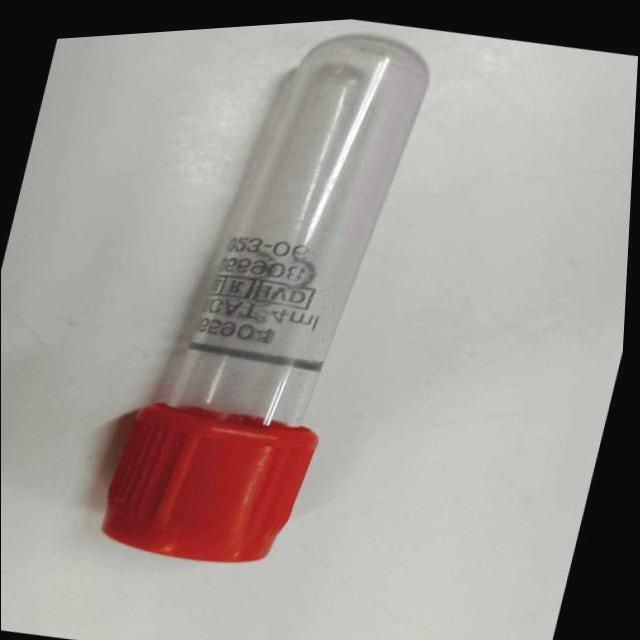General: (100, 400, 320, 565)
Sharps: (100, 33, 432, 564)
